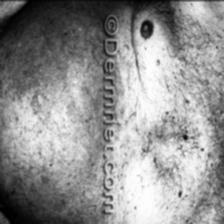Non-Cancerous Skin Condition: (0, 8, 103, 224), (116, 62, 151, 140)
